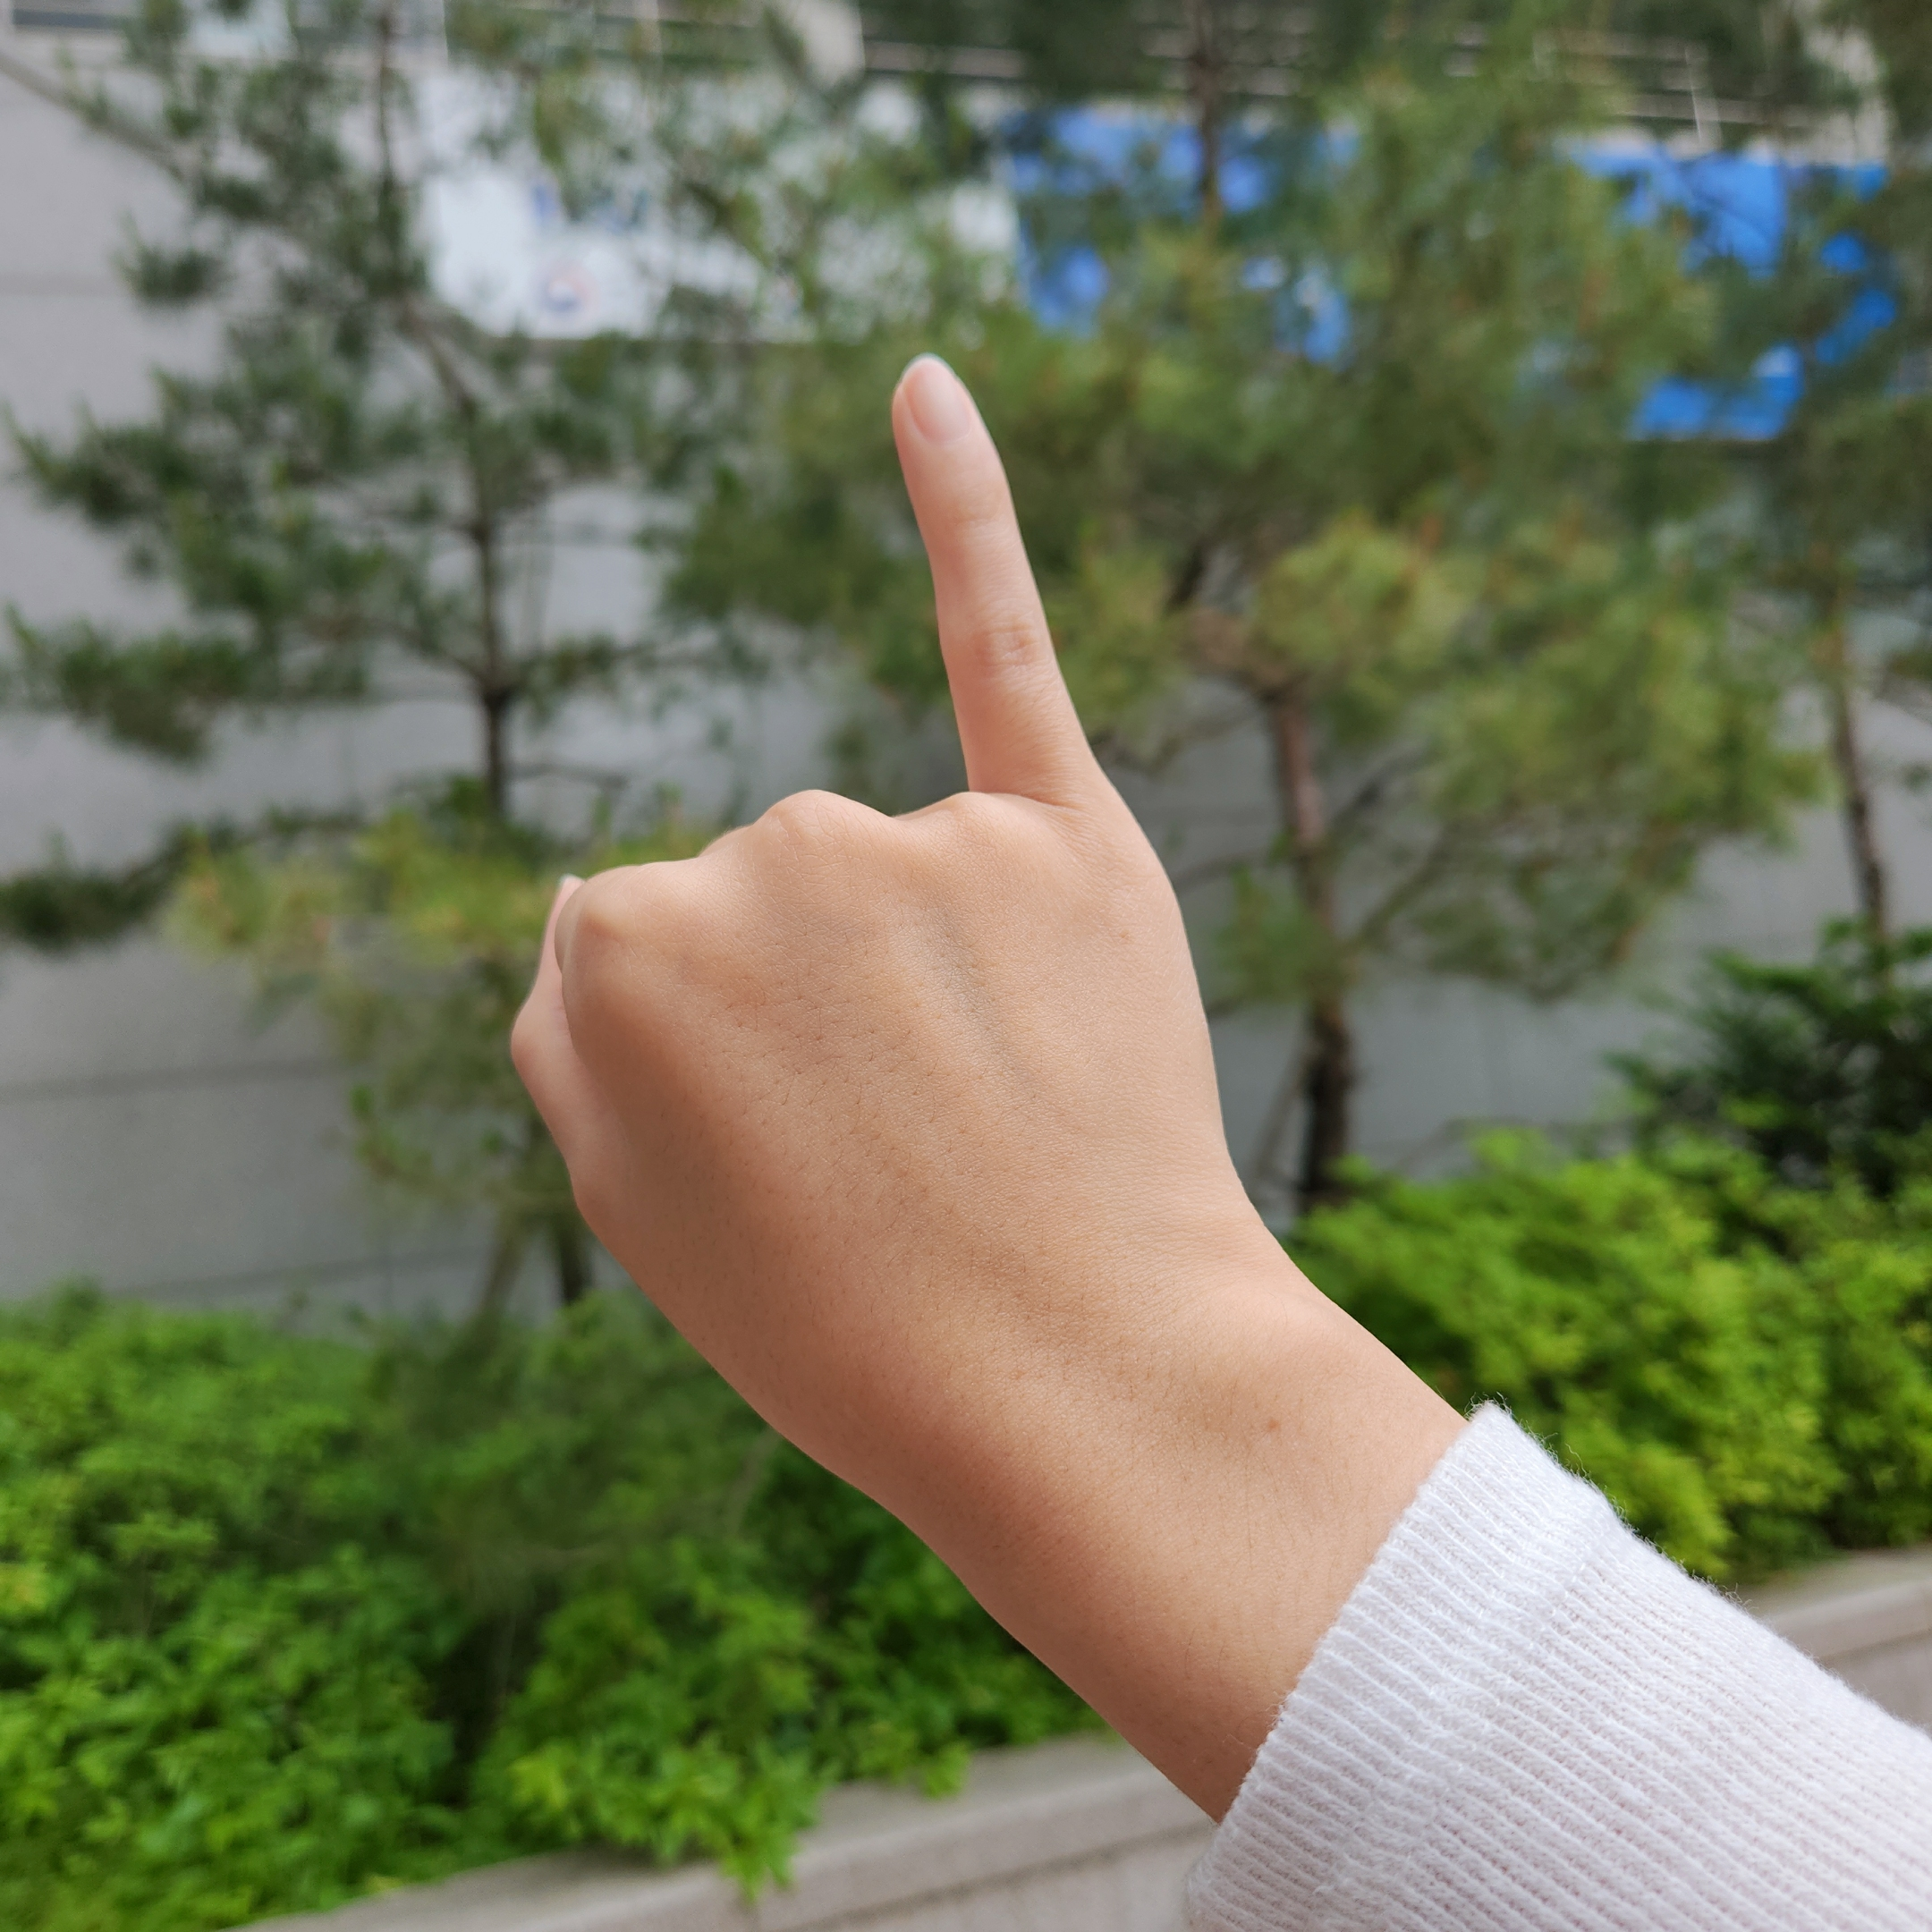fine: (506, 357, 1235, 1428)
